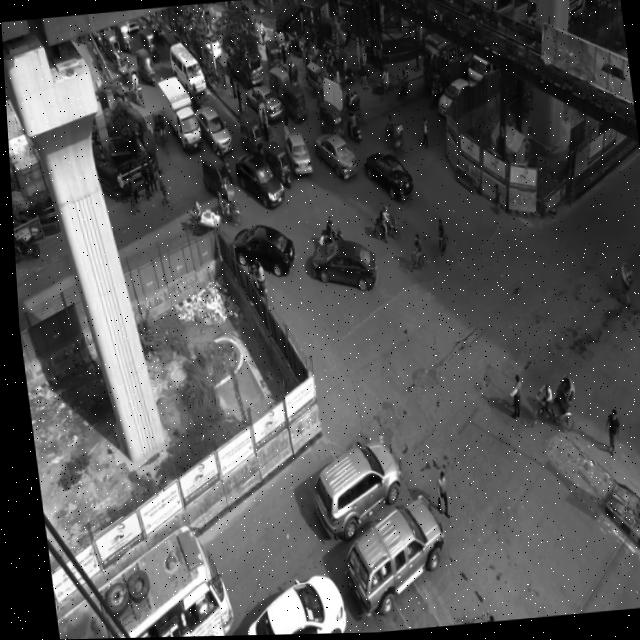cng: (197, 154, 231, 206), (256, 134, 288, 184), (279, 78, 310, 128), (315, 99, 343, 140), (234, 121, 262, 161), (133, 51, 159, 90), (140, 24, 159, 58)
rikshaw: (518, 372, 576, 440), (376, 108, 403, 161), (335, 92, 362, 123), (148, 112, 167, 154), (125, 67, 144, 109), (329, 57, 351, 88), (105, 40, 124, 71)
